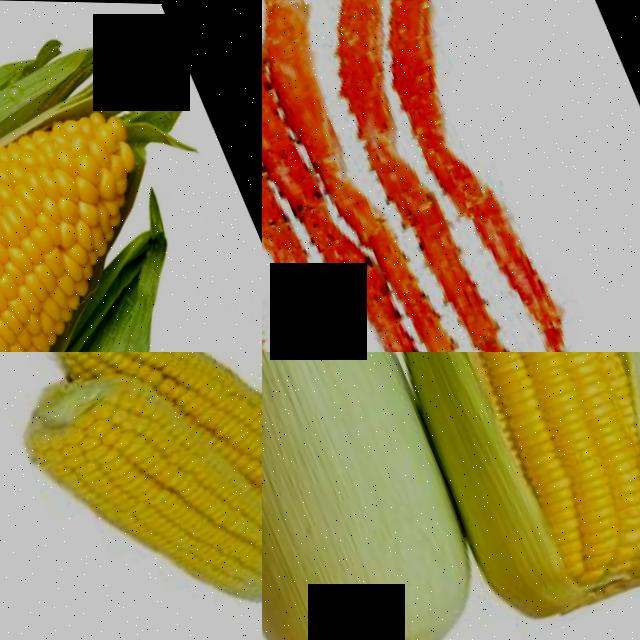corn: (368, 352, 640, 615), (0, 84, 262, 352), (19, 352, 262, 640), (4, 352, 179, 402), (174, 352, 262, 441), (223, 390, 262, 560)
crab: (272, 0, 616, 352), (262, 0, 500, 352)
